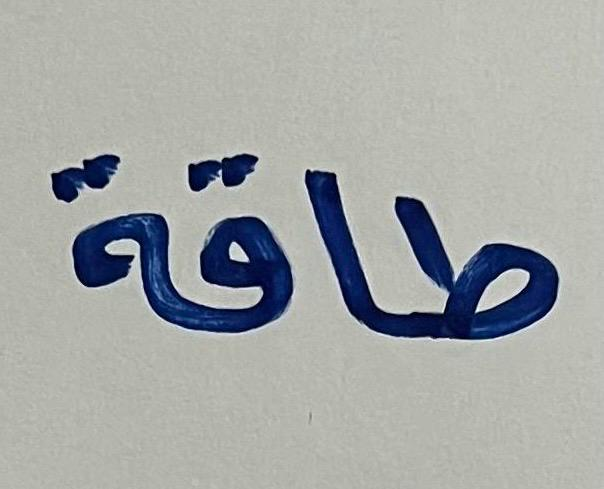alef: (297, 132, 375, 364)
qaf: (182, 129, 293, 381)
tah: (378, 157, 573, 381)
teh_marbota: (27, 103, 177, 372)
